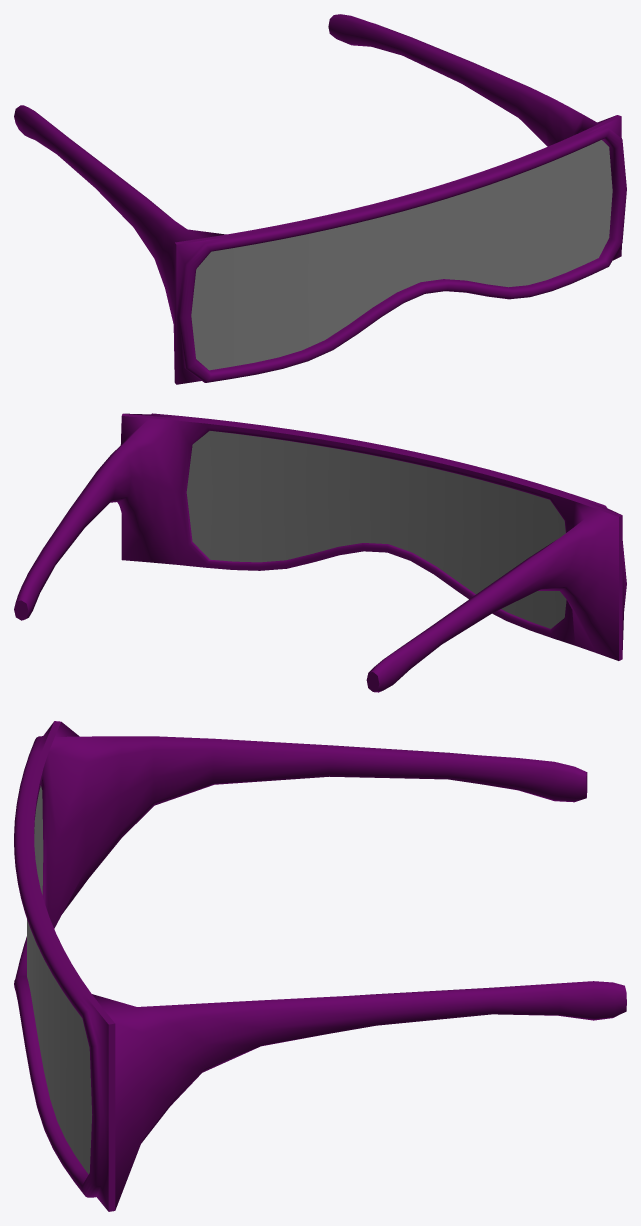
The model's file is ThermalStandin.fbx.
3 views of the same model, one above another, from view 1: azimuth 30°, elevation 25°; view 2: azimuth 150°, elevation 25°; view 3: azimuth 270°, elevation 25° (orthographic). The views are drawn at different scales.
Visible parts, largest first — view 1: Box001; view 2: Box001; view 3: Box001.
Part boxes in pixels (x1,y1,x2,y2): Box001: (14,14,626,384); Box001: (14,413,626,692); Box001: (14,721,626,1211).
Size of the model in its own units: 42.7 by 12.22 by 36.24.
